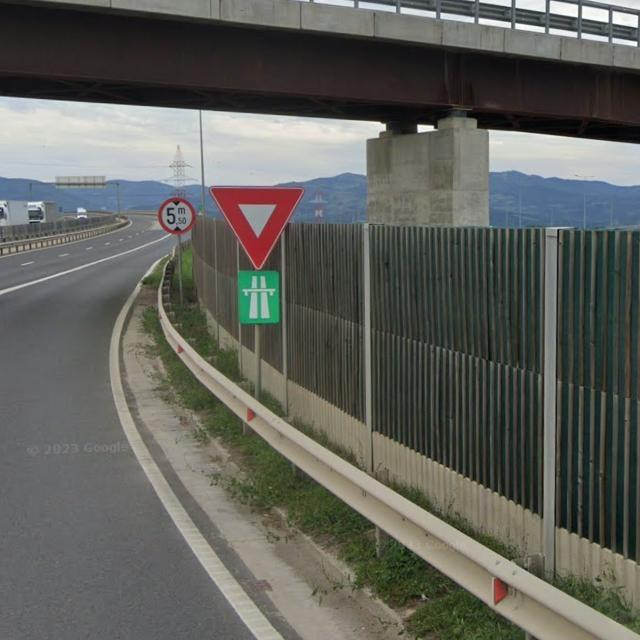prio_give_way: (208, 185, 306, 270)
